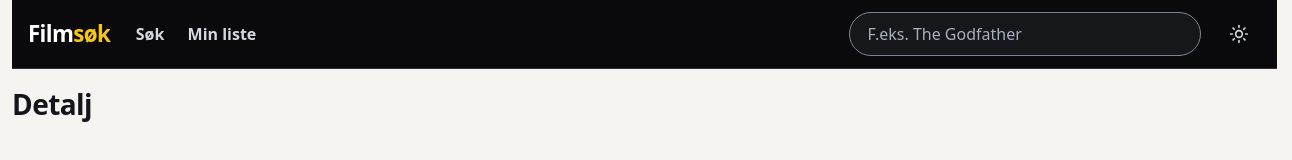
it: Layout › søk fra en annen side sender brukeren til forsiden med søket
Type "heat" into the search field named "Søk etter tittel".
click(1025, 34); type("heat")  # box top-left (849, 12), bottom-right (1201, 56)
Then press Enter
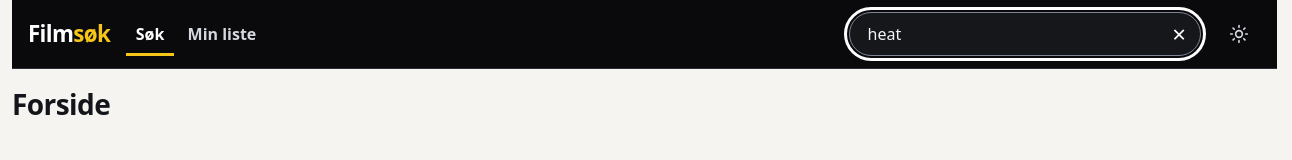
Expected: the heading "Forside" is shown, top-left (12, 85), bottom-right (110, 123)
